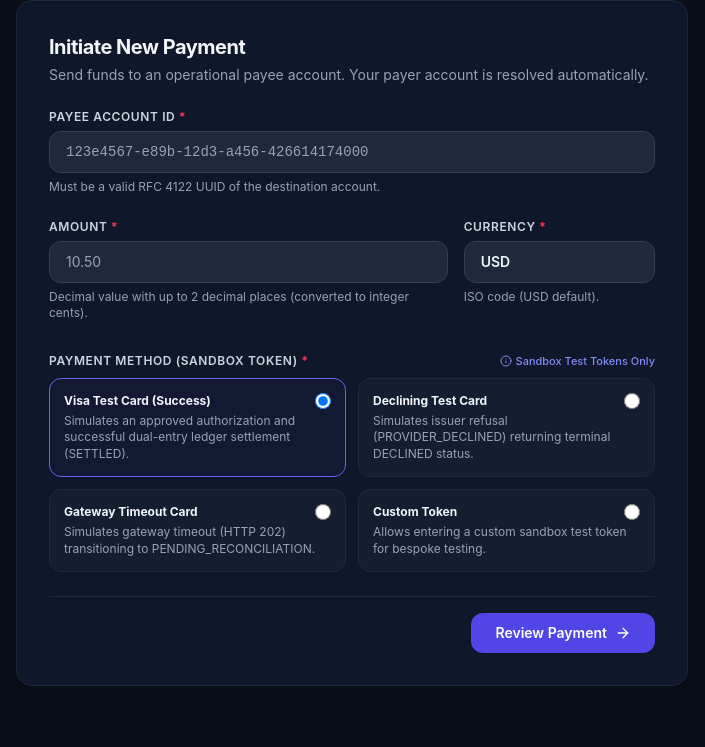
PaymentForm Component › validates invalid UUID and invalid amount decimal format
Type "not-a-uuid" into the field labelled "Payee Account ID *".
click(352, 152); type("not-a-uuid")  # box [49,131,655,173]
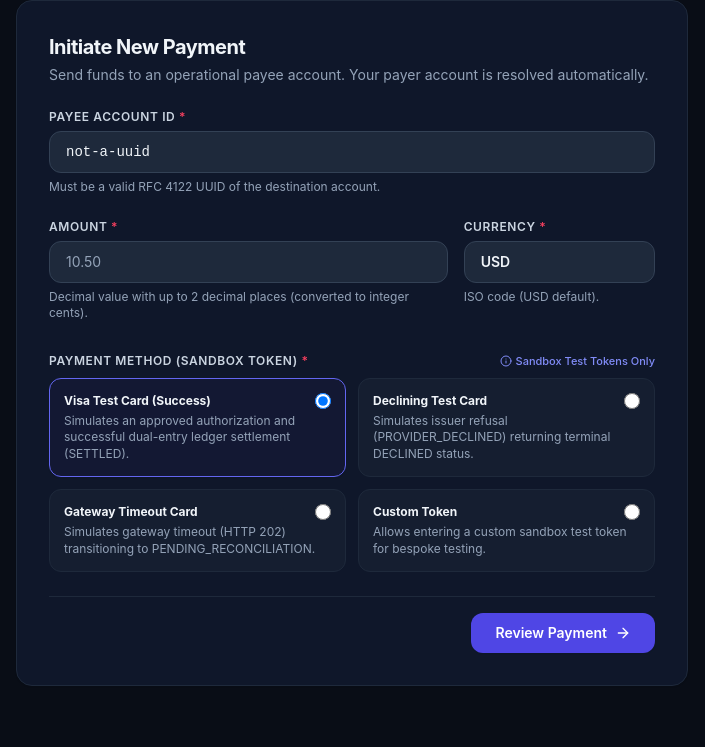
Type "12.345" into the field labelled "Amount *".
click(248, 262); type("12.345")  # box [49,241,448,283]
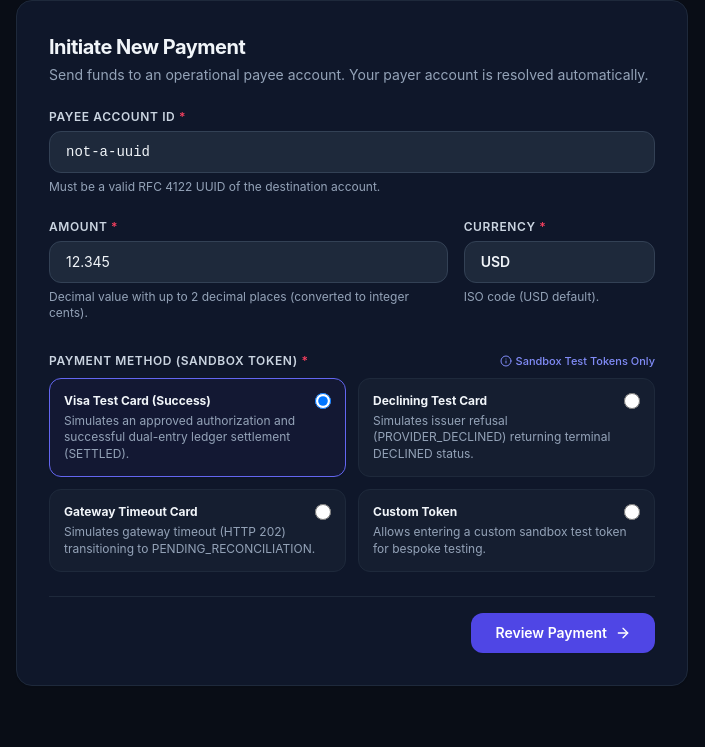
Click the button "Review Payment".
click(563, 633)  # box [472,613,655,653]
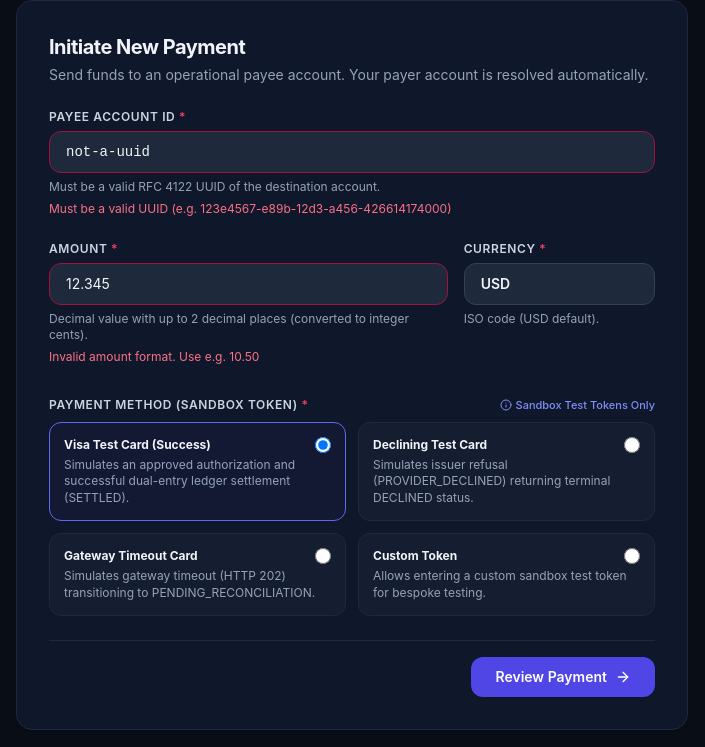
Result: the text "Must be a valid UUID (e.g. 123e4567-e89b-12d3-a456-426614174000)" is shown at [49,201,452,216]
Result: the text "Invalid amount format. Use e.g. 10.50" is shown at [49,349,259,364]
